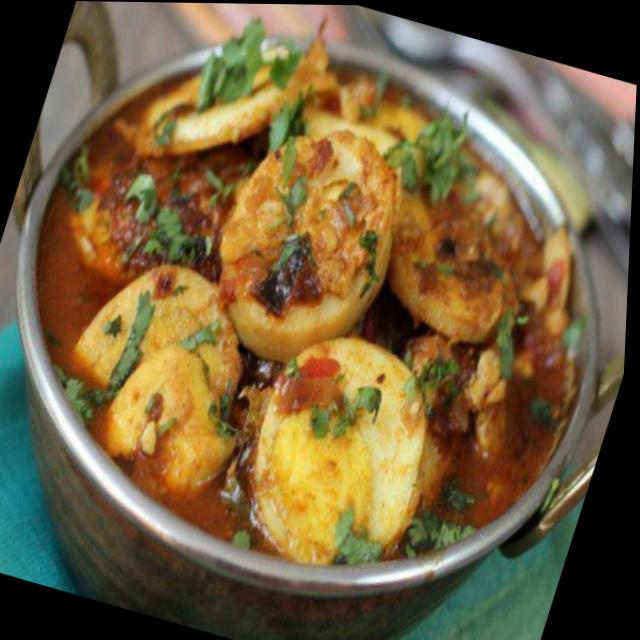CURRY: (32, 17, 591, 585)
